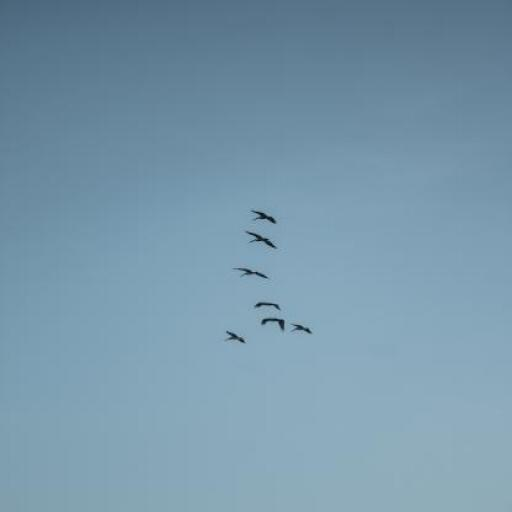bird: (246, 231, 278, 250), (233, 268, 272, 281), (250, 209, 278, 225), (261, 316, 285, 331), (224, 331, 247, 345), (253, 302, 282, 312), (290, 324, 312, 334)
